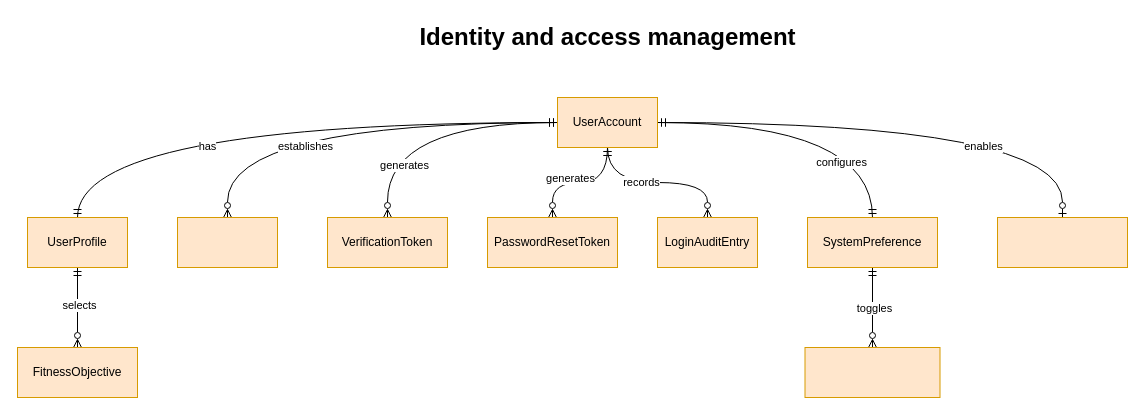
Image size: 1145x415. Some labels were removed from this diagram. Each missing label, with the centre of its shape:
MFAConfiguration: (1062,242)
NotificationCategory: (872,372)
UserSession: (227,242)
